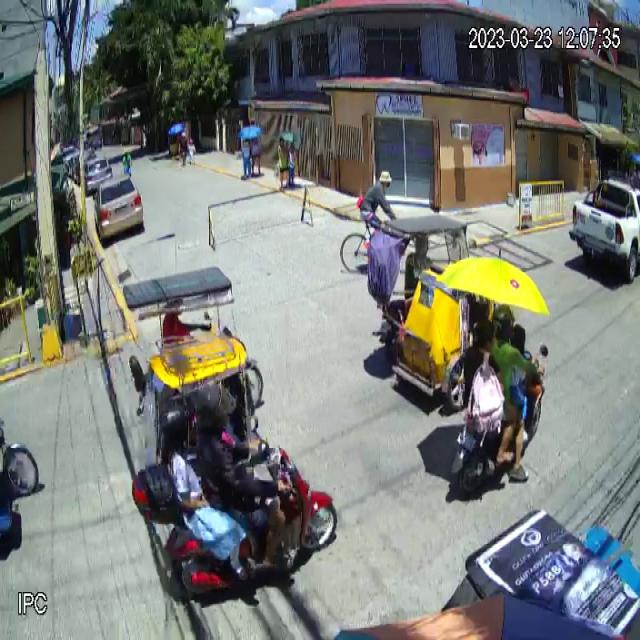Car: (94, 174, 144, 244)
Motorcycle: (131, 415, 337, 601)
Tricycle: (119, 266, 265, 452), (363, 212, 490, 403)
